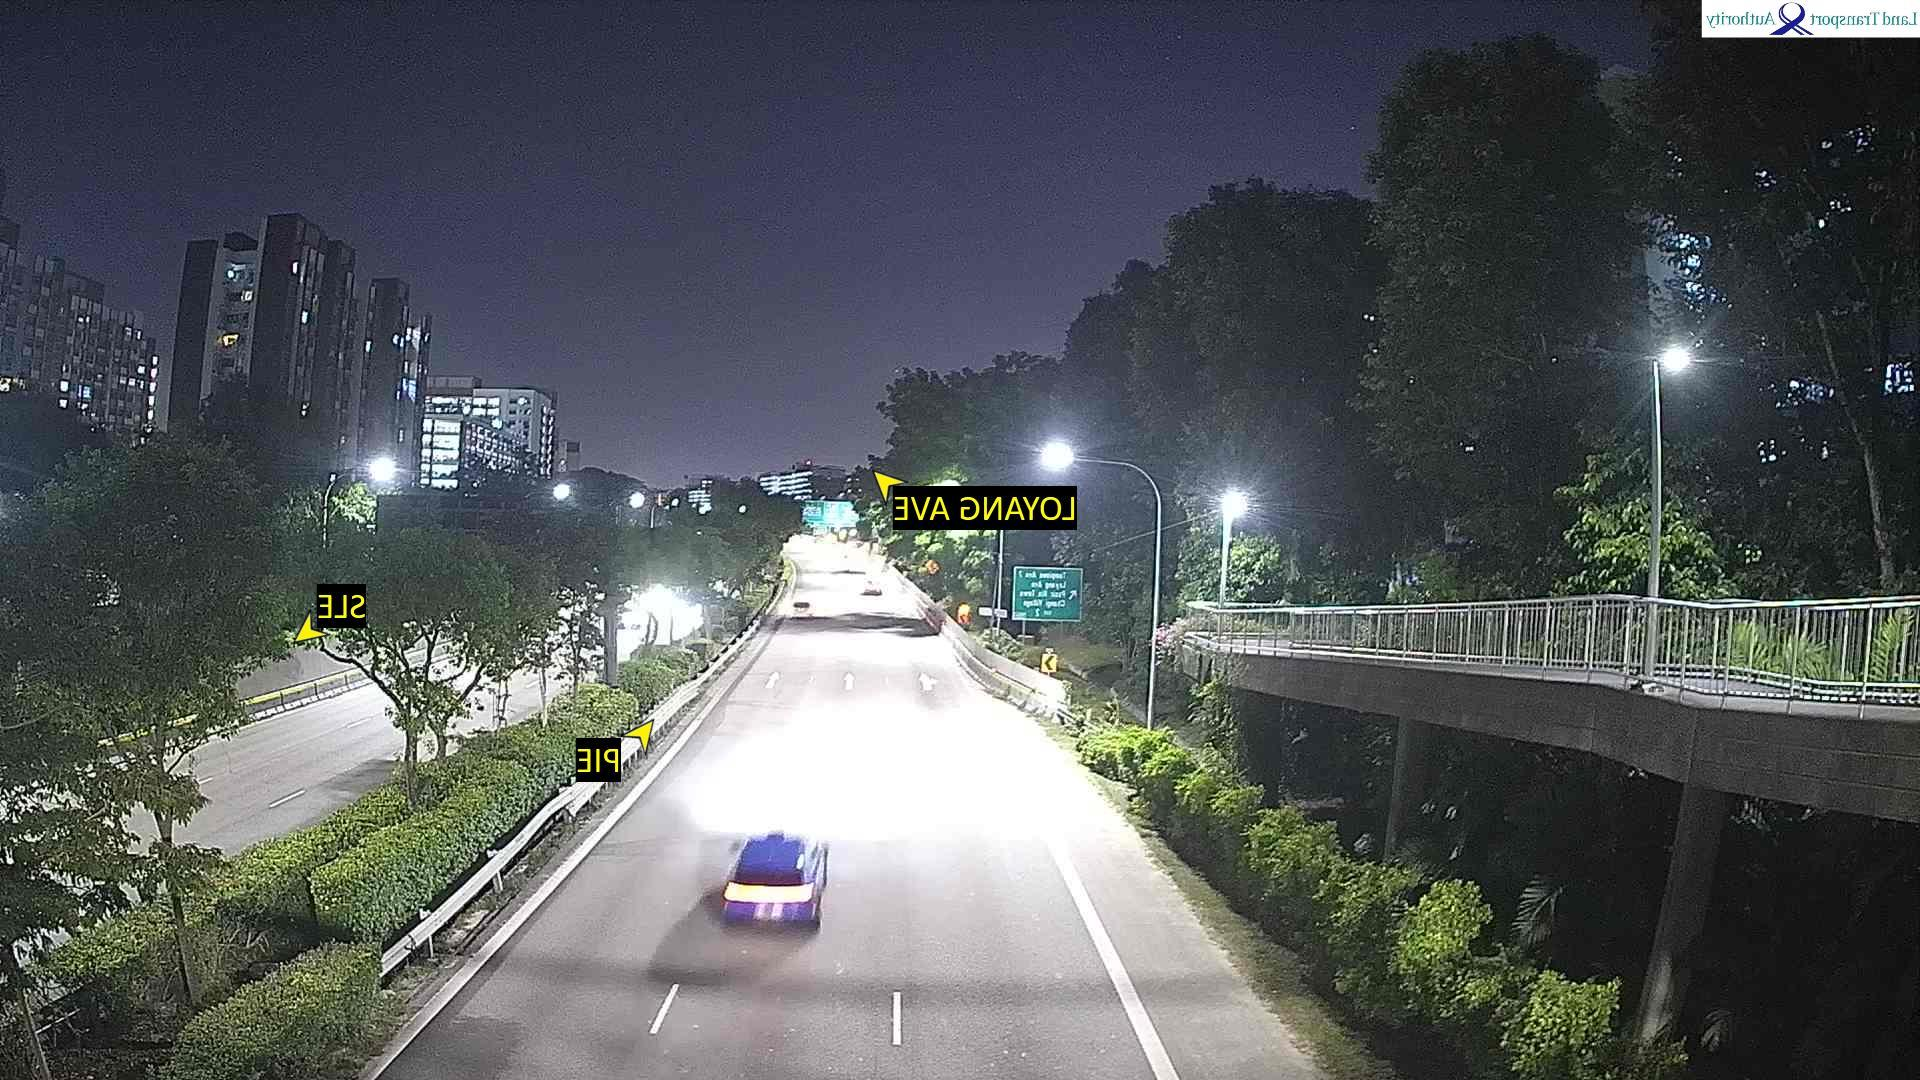cars: (721, 829, 829, 928), (861, 579, 884, 595), (793, 600, 812, 615)
